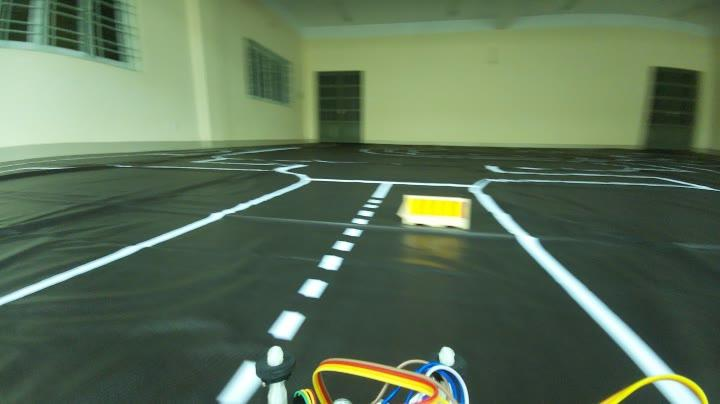roadblock: (390, 187, 484, 245)
